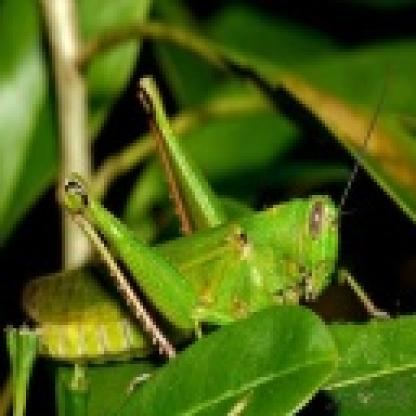grasshopper: (20, 82, 355, 356)
